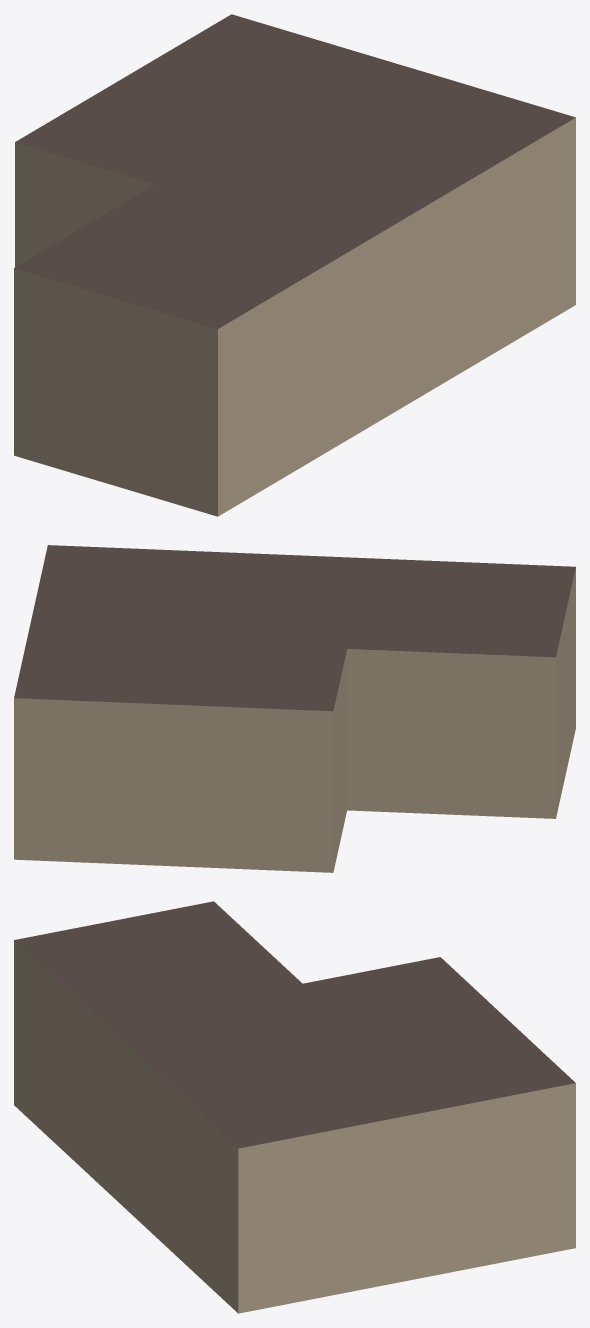
3 renders of one model, top to bottom at view 1: azimuth 30°, elevation 25°; view 2: azimuth 150°, elevation 25°; view 3: azimuth 270°, elevation 25°, orthographic. The views are drawn at different scales.
Visible parts, largest first — view 1: HP-w369317598; view 2: HP-w369317598; view 3: HP-w369317598.
Boxes of the visible parts, x1,y1,x2,y2 form: HP-w369317598: (14, 14, 575, 516); HP-w369317598: (14, 545, 575, 872); HP-w369317598: (14, 901, 575, 1313).
Bounding box in the file's own units: 28.92 × 9 × 27.77.
